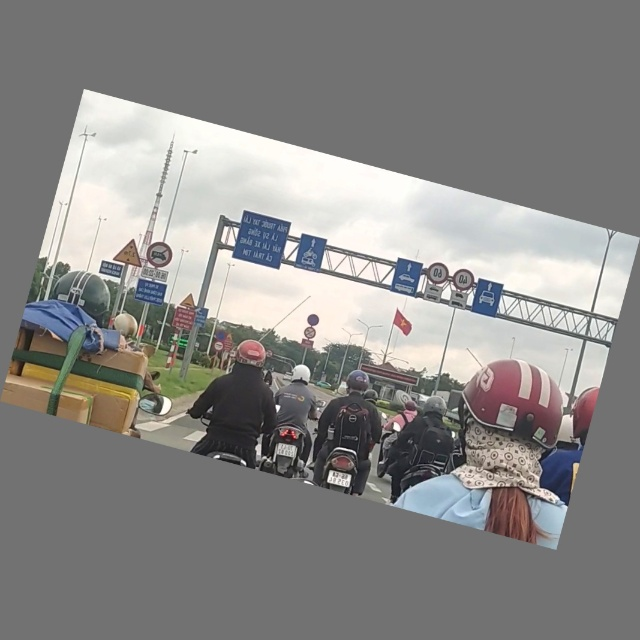Camera: (193, 307, 210, 328)
P.106a*Xe tai: (143, 240, 175, 270)
P.107: (264, 349, 274, 359)
P.111: (302, 326, 318, 341)
P.127*40: (450, 267, 478, 294)
P.127*60: (424, 260, 452, 287)
P.129: (212, 341, 224, 354)
P.130: (305, 313, 321, 328)
P.131a: (215, 329, 228, 342)
W.221b: (178, 291, 199, 310)
W.239b*: (111, 235, 148, 269)
